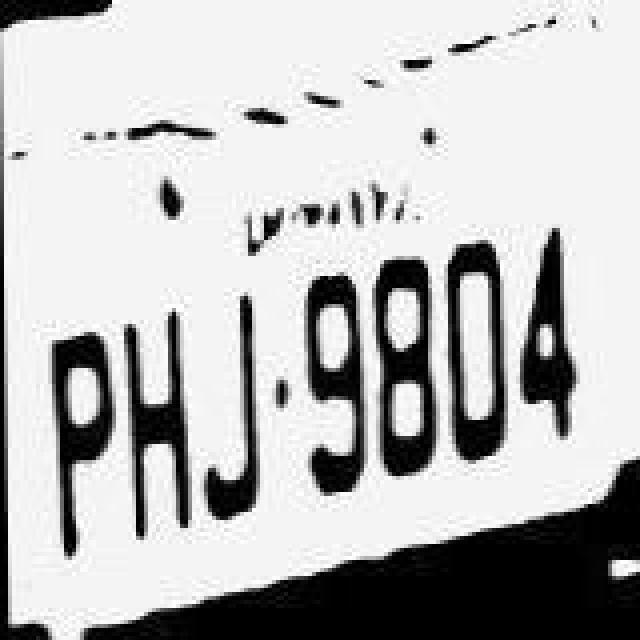4: (512, 196, 592, 460)
8: (370, 224, 446, 496)
9: (298, 236, 374, 516)
H: (116, 288, 196, 560)
J: (198, 264, 274, 528)
O: (442, 190, 518, 466)
P: (42, 294, 126, 562)
